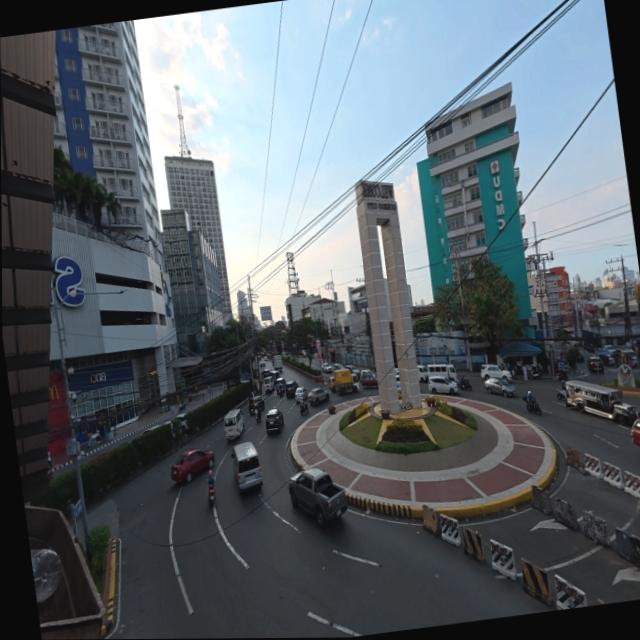Jeepneys: (565, 381, 639, 424)
car: (170, 450, 213, 482), (484, 377, 514, 397), (429, 375, 457, 395), (480, 364, 511, 381), (265, 409, 283, 433), (307, 389, 328, 405), (172, 413, 187, 435), (248, 395, 264, 414), (359, 372, 377, 388), (140, 424, 162, 436), (587, 357, 603, 372), (274, 376, 287, 394), (285, 381, 297, 398), (294, 388, 307, 401), (345, 365, 360, 376), (321, 363, 332, 374), (604, 345, 615, 354), (360, 369, 372, 377), (331, 363, 343, 371), (584, 345, 595, 353), (577, 352, 584, 363), (480, 364, 487, 372), (395, 369, 399, 382), (396, 381, 400, 392)
motorcycle: (522, 396, 541, 415), (458, 377, 470, 390), (528, 369, 542, 379), (208, 483, 215, 503), (555, 388, 566, 400), (556, 369, 566, 381), (177, 400, 186, 412), (253, 407, 260, 422), (299, 404, 308, 415)
trucks: (289, 468, 347, 527), (330, 369, 357, 394), (630, 418, 639, 447), (263, 375, 274, 393), (272, 355, 282, 370)
vans: (230, 440, 264, 492), (223, 409, 242, 440), (427, 364, 457, 381), (263, 375, 274, 393), (417, 365, 428, 383)
